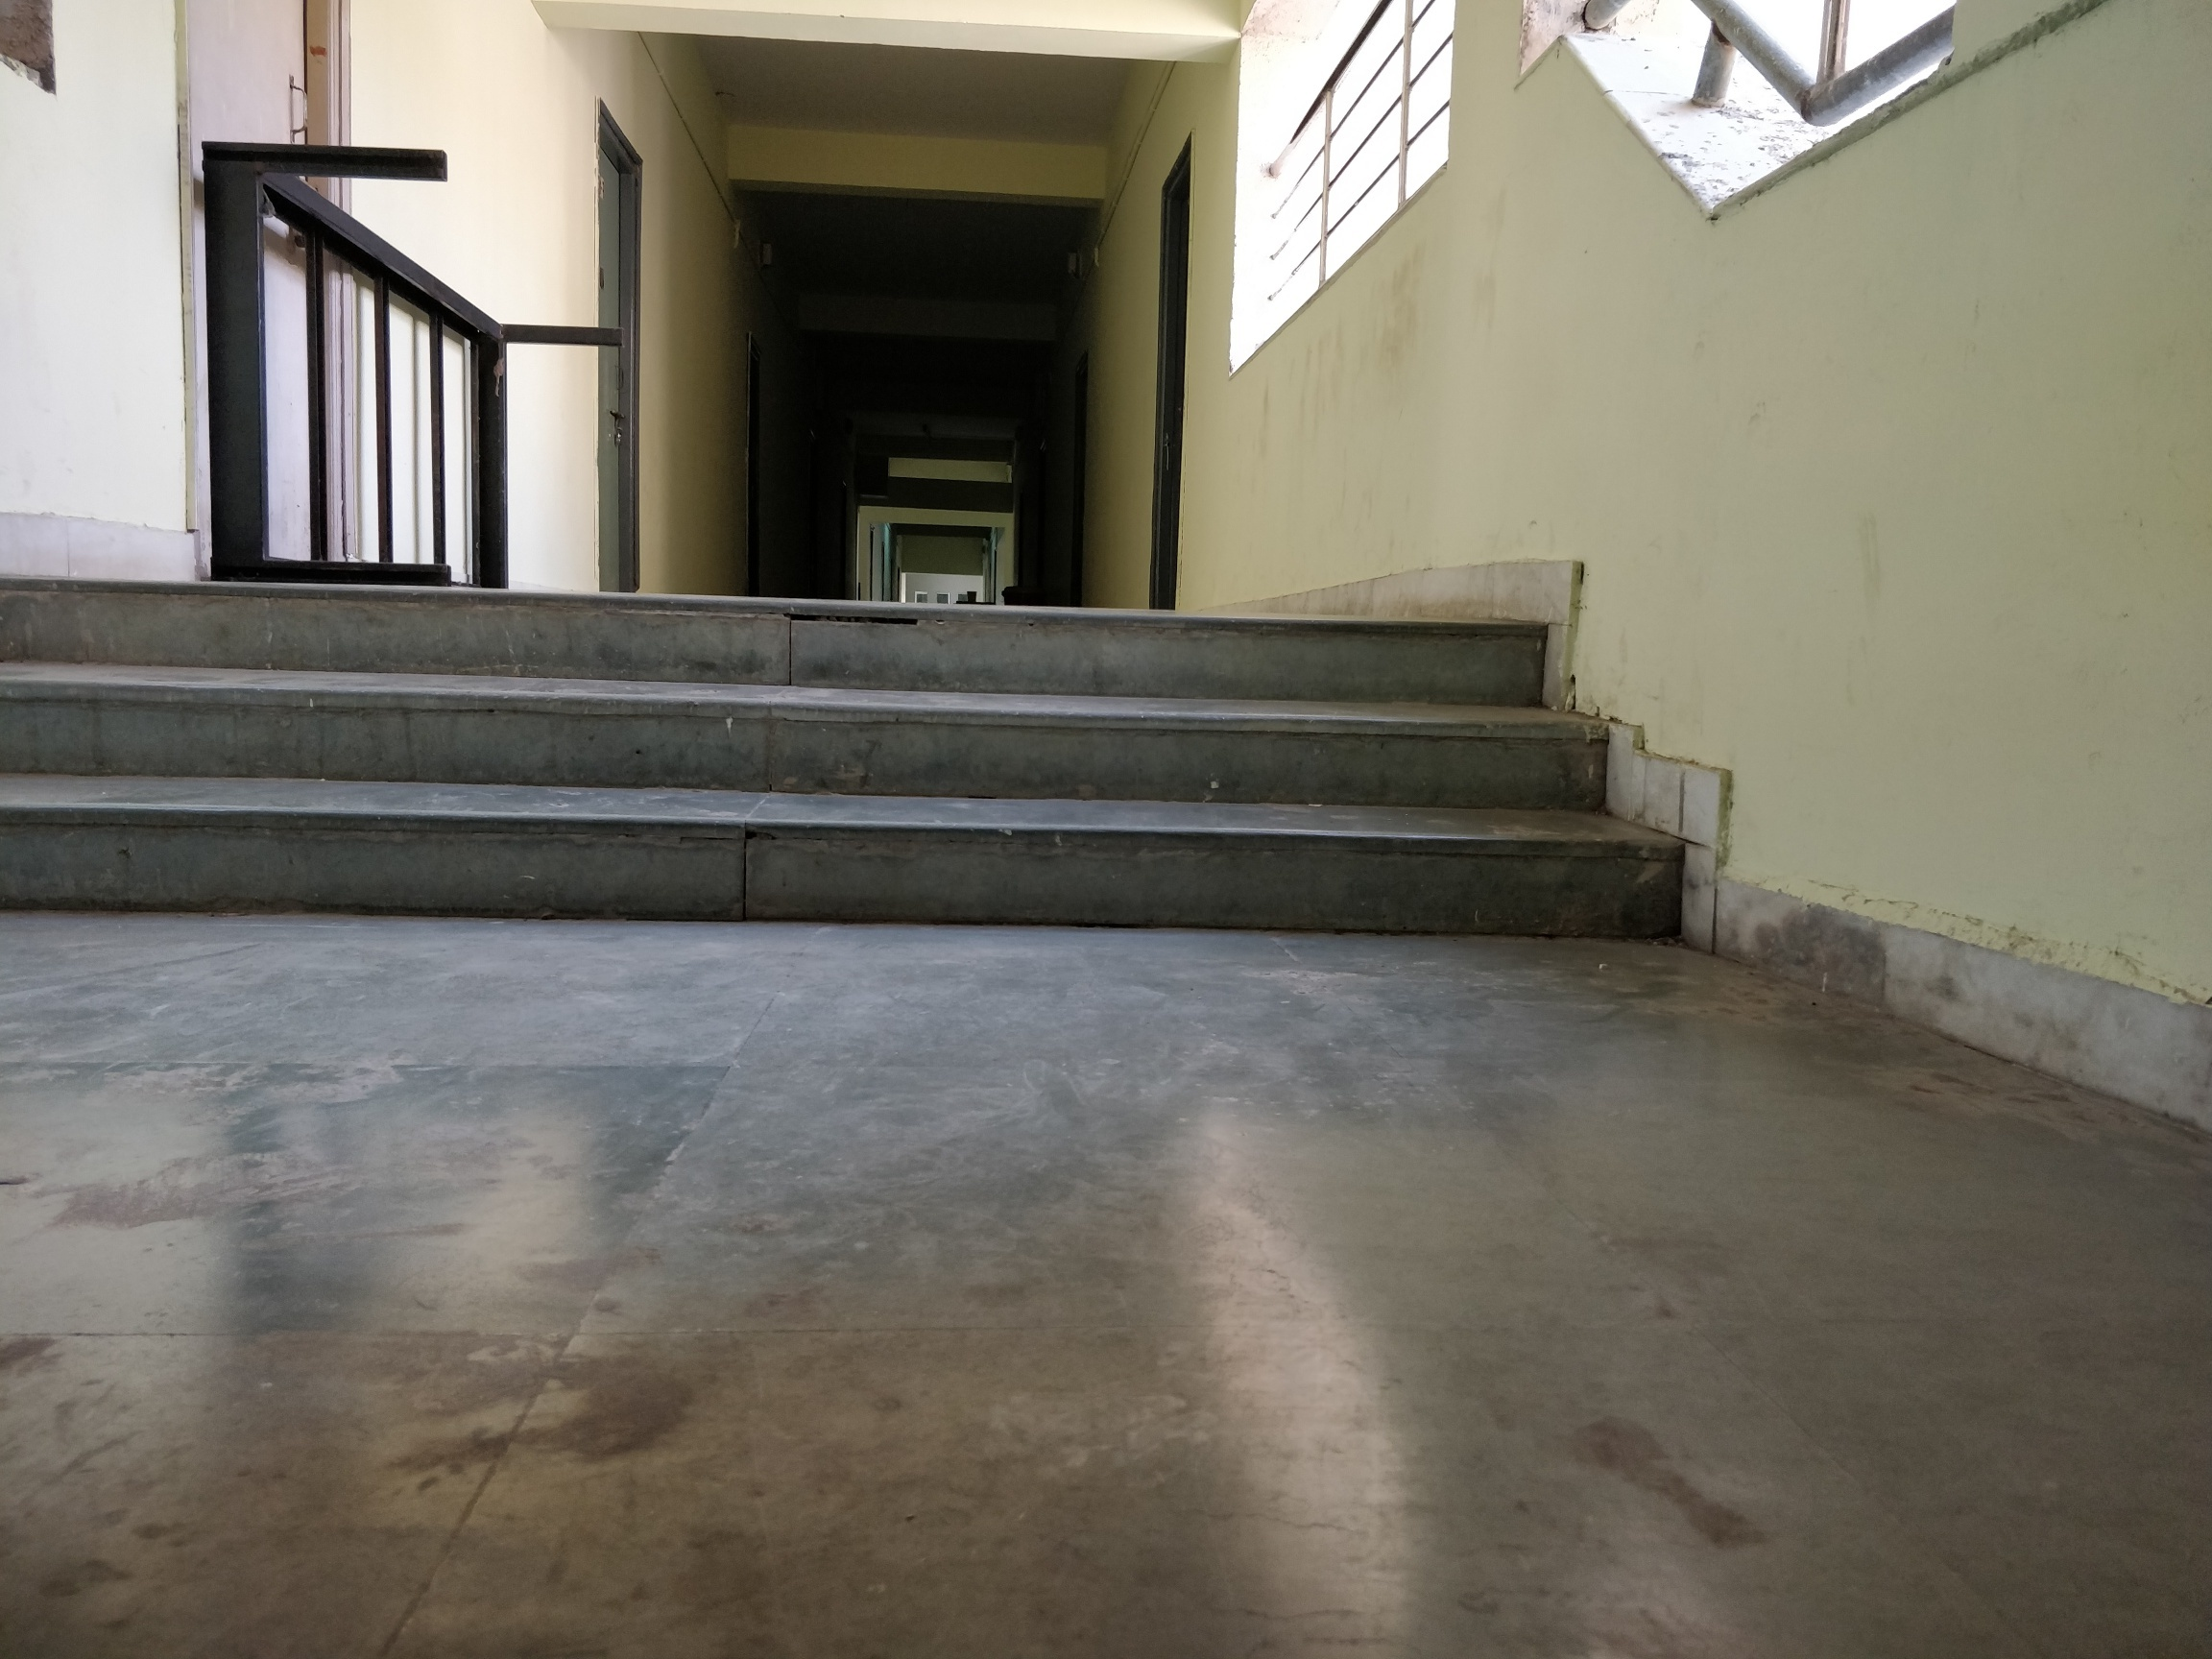stairs_up: (14, 572, 1676, 925)
